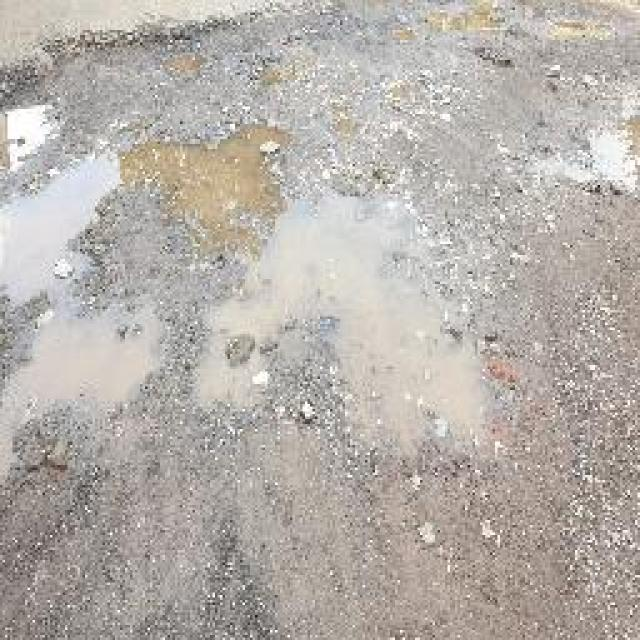puddle: (1, 107, 503, 445)
